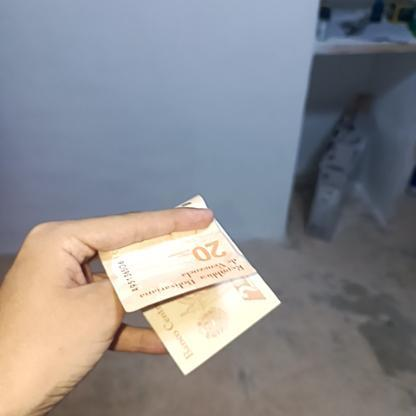twenty-front-vef: (78, 192, 284, 376)
